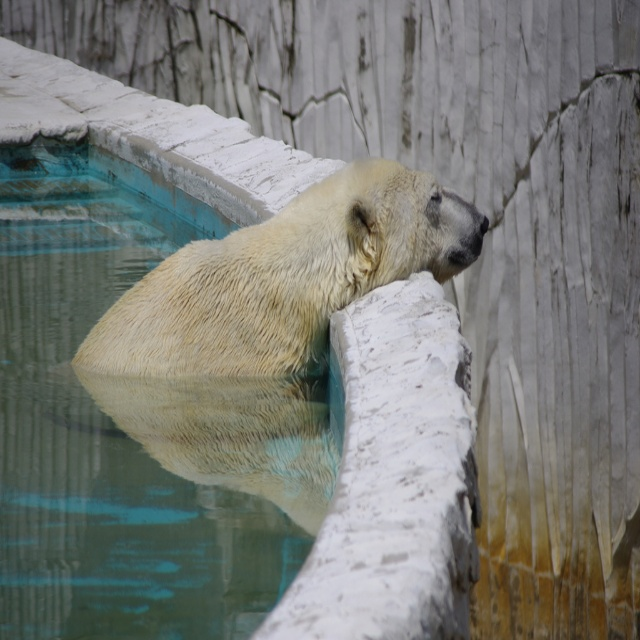Polar bear: (71, 151, 486, 374)
